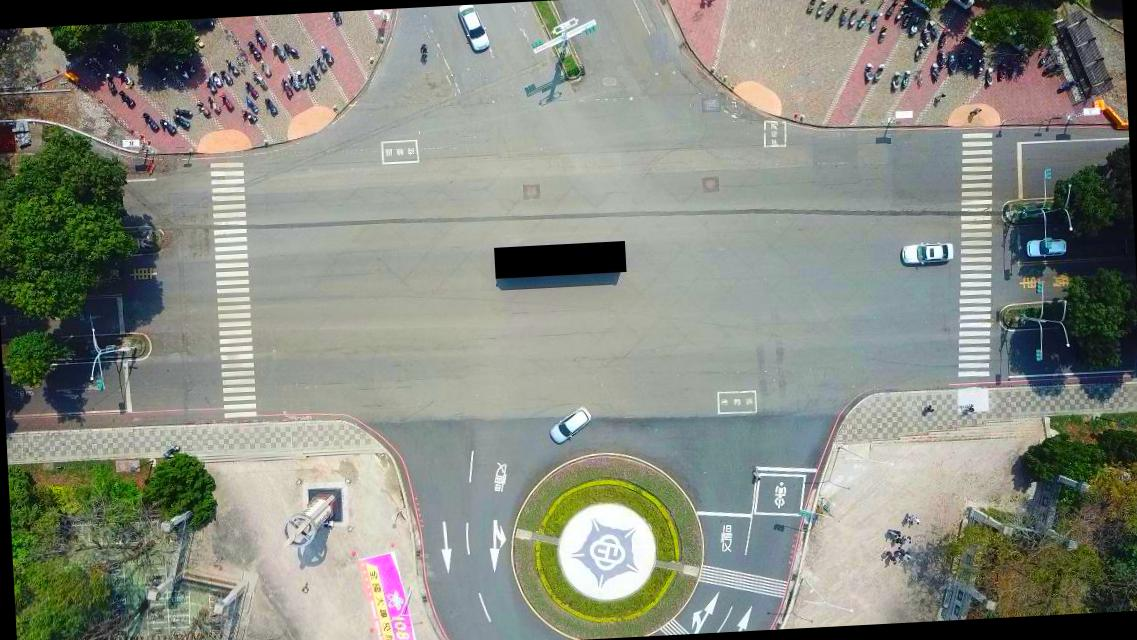vehicle: (546, 404, 592, 446), (456, 4, 491, 54), (900, 240, 954, 264), (1024, 237, 1070, 258)
